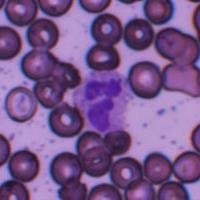N: (73, 68, 132, 136)
